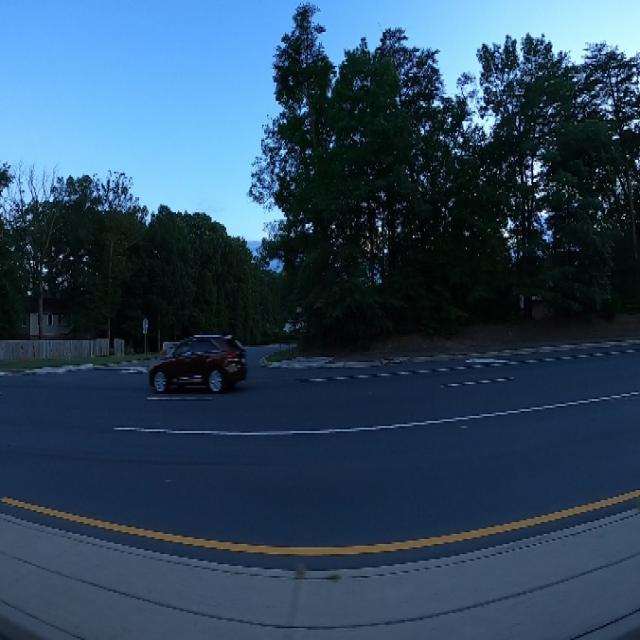cars: (138, 327, 249, 405)
